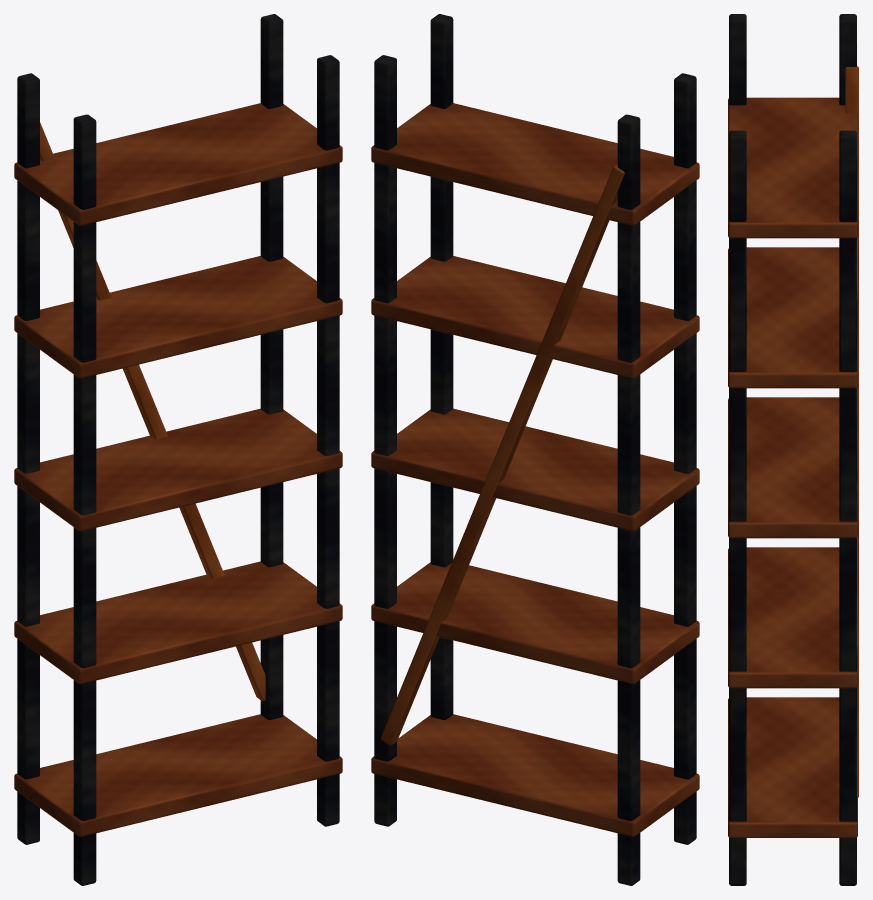
The model's file is tall-rack-pbr-v1.glb.
The picture shows the model from 3 angles, left to right: view 1: azimuth 30°, elevation 25°; view 2: azimuth 150°, elevation 25°; view 3: azimuth 270°, elevation 25°; orthographic projection.
Parts seen in each view (by area): view 1: rack-oak-shelf-0, rack-oak-shelf-3, rack-oak-shelf-4, rack-oak-shelf-1, rack-oak-shelf-2, rack-graphite-upright, rack-graphite-upright.002, rack-graphite-upright.001, rack-graphite-upright.003, rack-diagonal-brace; view 2: rack-oak-shelf-0, rack-oak-shelf-4, rack-oak-shelf-3, rack-oak-shelf-1, rack-oak-shelf-2, rack-graphite-upright.001, rack-graphite-upright.003, rack-graphite-upright, rack-diagonal-brace, rack-graphite-upright.002; view 3: rack-oak-shelf-4, rack-oak-shelf-2, rack-oak-shelf-3, rack-oak-shelf-1, rack-oak-shelf-0, rack-graphite-upright.002, rack-graphite-upright.003, rack-diagonal-brace, rack-graphite-upright, rack-graphite-upright.001.
Part boxes in pixels (x1,y1,x2,y2): rack-oak-shelf-0: (14, 714, 342, 836); rack-oak-shelf-3: (14, 256, 342, 378); rack-oak-shelf-4: (14, 103, 342, 225); rack-oak-shelf-1: (14, 561, 342, 684); rack-oak-shelf-2: (14, 408, 342, 531); rack-graphite-upright: (73, 114, 96, 885); rack-graphite-upright.002: (317, 55, 339, 826); rack-graphite-upright.001: (17, 73, 39, 844); rack-graphite-upright.003: (260, 14, 283, 719); rack-diagonal-brace: (40, 122, 265, 701); rack-oak-shelf-0: (371, 714, 699, 836); rack-oak-shelf-4: (371, 103, 699, 225); rack-oak-shelf-3: (371, 256, 699, 378); rack-oak-shelf-1: (371, 562, 699, 684); rack-oak-shelf-2: (371, 408, 699, 531); rack-graphite-upright.001: (617, 114, 640, 885); rack-graphite-upright.003: (374, 55, 396, 826); rack-graphite-upright: (674, 73, 696, 844); rack-diagonal-brace: (380, 163, 624, 745); rack-graphite-upright.002: (430, 14, 453, 719); rack-oak-shelf-4: (728, 97, 857, 238); rack-oak-shelf-2: (728, 397, 857, 538); rack-oak-shelf-3: (728, 247, 857, 388); rack-oak-shelf-1: (728, 547, 857, 688); rack-oak-shelf-0: (728, 697, 857, 837); rack-graphite-upright.002: (729, 130, 746, 885); rack-graphite-upright.003: (839, 130, 856, 885); rack-diagonal-brace: (845, 66, 858, 797); rack-graphite-upright: (729, 14, 746, 105); rack-graphite-upright.001: (839, 14, 856, 105).
Bounding box in the file's own units: 0.76 × 2.1 × 0.3325.
3 materials, 3 textured.
